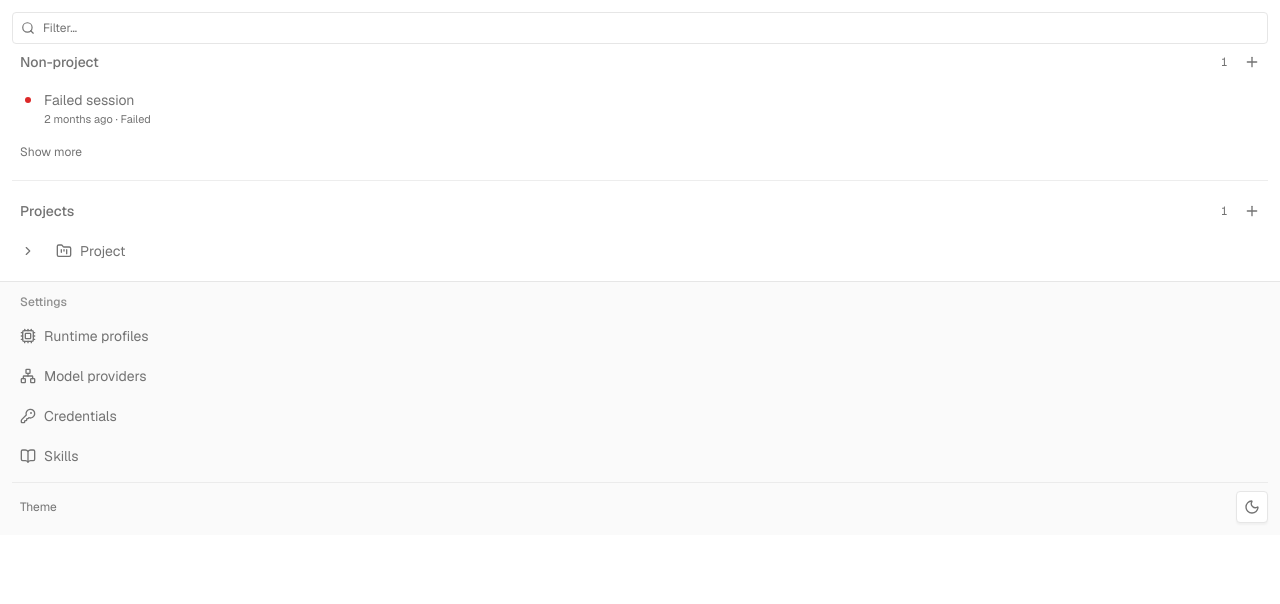
Test: WorkspaceSidebar › shows durable Runtime failures instead of collapsing them into offline
The width and height of the screenshot is (1280, 604).
Check: the link with aria-label "Open Failed session session conversation. Runtime failure." is shown, box [19, 90, 152, 126]
Click the button named "expand project" at x=28, y=251, box [12, 235, 44, 267]
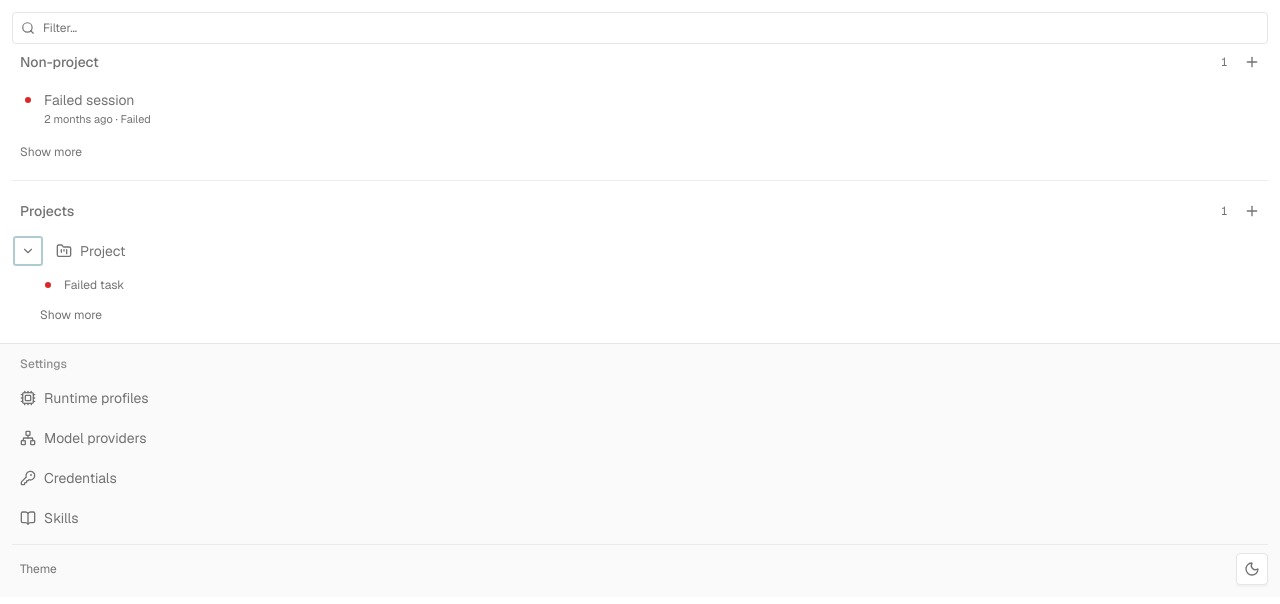
Check: the link "Failed task" is shown, box [39, 277, 136, 301]
